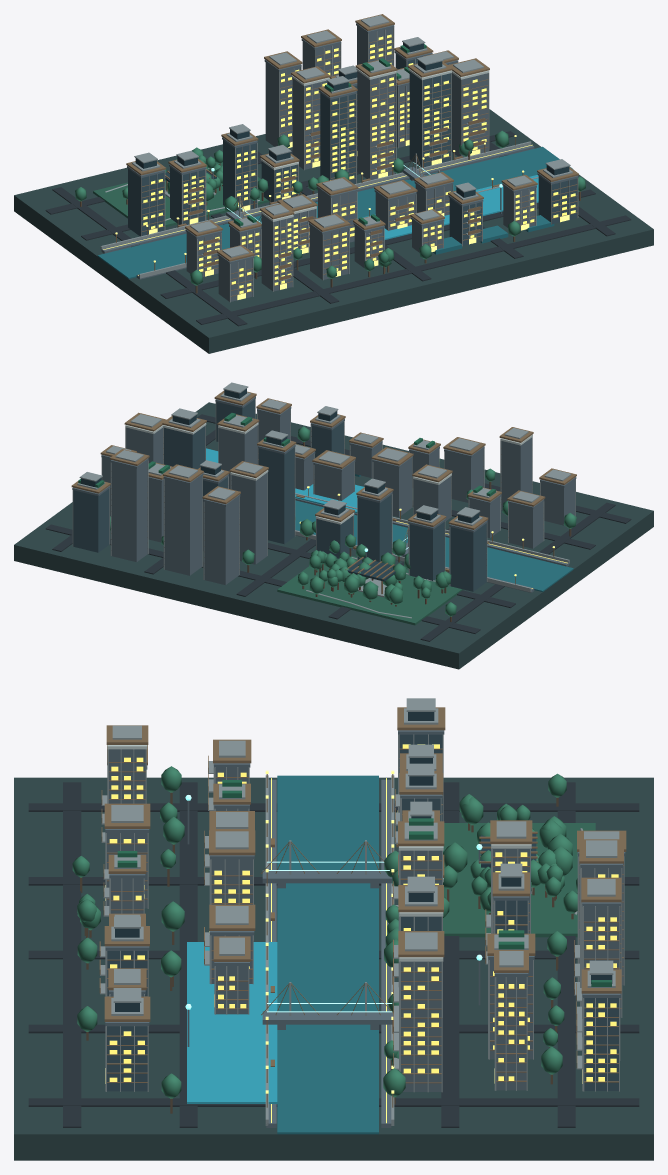
File: water.glb
The picture shows the model from 3 angles, top to bottom: view 1: azimuth 30°, elevation 25°; view 2: azimuth 150°, elevation 25°; view 3: azimuth 270°, elevation 25°; orthographic projection. The views are drawn at different scales.
Visible parts, largest first — view 1: District foundation, Detail_Detail architectural limestone, Detail_Detail brushed bronze, River corridor, Building_20, Building_24, Avenue, Building_15, Building_28, Building_03, Building_16, Building_17 (+29 smaller); view 2: District foundation, Detail_Detail architectural limestone, Detail_Detail brushed bronze, Riverside park, Building_22, Building_26, River corridor, Building_17, Building_15, Building_16, Building_03, Building_30 (+29 smaller); view 3: District foundation, River corridor, Detail_Detail architectural limestone, Detail_Detail brushed bronze, Flood extent, Riverside park, Avenue, Building_28, Avenue.001, Cross street.004, Avenue.002, Avenue.003 (+26 smaller).
Boxes of the visible parts, x1,y1,x2,y2 form: District foundation: (14, 109, 653, 353); Detail_Detail architectural limestone: (100, 15, 578, 302); Detail_Detail brushed bronze: (116, 14, 578, 296); River corridor: (97, 146, 573, 278); Building_20: (357, 71, 395, 179); Building_24: (409, 71, 450, 167); Avenue: (196, 215, 631, 324); Building_15: (320, 93, 355, 183); Building_28: (451, 73, 488, 157); Building_03: (128, 169, 164, 236); Building_16: (292, 78, 327, 169); Building_17: (265, 62, 300, 146); District foundation: (14, 402, 653, 669); Detail_Detail architectural limestone: (72, 382, 575, 597); Detail_Detail brushed bronze: (71, 390, 576, 593); Riverside park: (277, 555, 463, 625); Building_22: (164, 476, 202, 575); Building_26: (111, 461, 147, 562); River corridor: (295, 500, 573, 591); Building_17: (204, 497, 239, 584); Building_15: (258, 447, 294, 544); Building_16: (231, 473, 267, 564); Building_03: (450, 523, 486, 591); Building_30: (73, 489, 109, 552); District foundation: (14, 777, 653, 1160); River corridor: (277, 775, 378, 1134); Detail_Detail architectural limestone: (100, 698, 624, 1125); Detail_Detail brushed bronze: (99, 707, 626, 1107); Flood extent: (187, 942, 277, 1103); Riverside park: (443, 823, 595, 937); Avenue: (63, 782, 81, 1127); Building_28: (401, 961, 441, 1091); Avenue.001: (179, 782, 197, 1127); Cross street.004: (28, 1098, 639, 1106); Avenue.002: (441, 782, 459, 1127); Avenue.003: (557, 782, 575, 1127).
Bounding box in the file's own units: 29 × 8 × 22.
